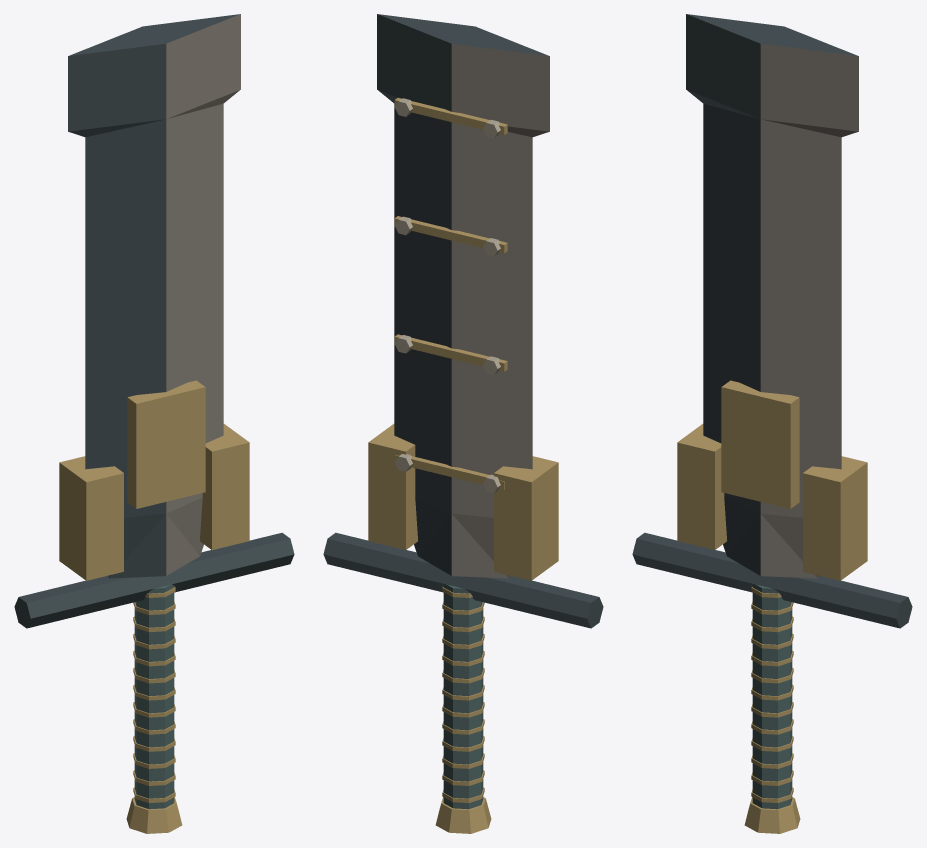
File: Arsenal_SiegeRivet.fbx
The picture shows the model from 3 angles, left to right: view 1: azimuth 30°, elevation 25°; view 2: azimuth 150°, elevation 25°; view 3: azimuth 330°, elevation 25°; orthographic projection.
Parts seen in each view (by area): view 1: Arsenal_SiegeRivet; view 2: Arsenal_SiegeRivet; view 3: Arsenal_SiegeRivet.
Boxes of the visible parts, <box> form: Arsenal_SiegeRivet: <box>14,14,294,833</box>; Arsenal_SiegeRivet: <box>323,14,603,833</box>; Arsenal_SiegeRivet: <box>632,14,912,833</box>.
Bounding box in the file's own units: 0.84 × 2.39 × 0.186.
